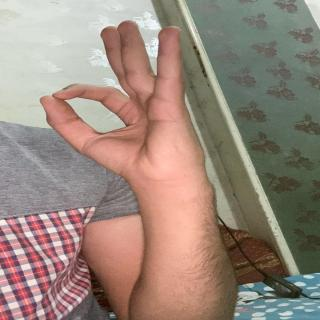Space: (37, 14, 215, 185)
